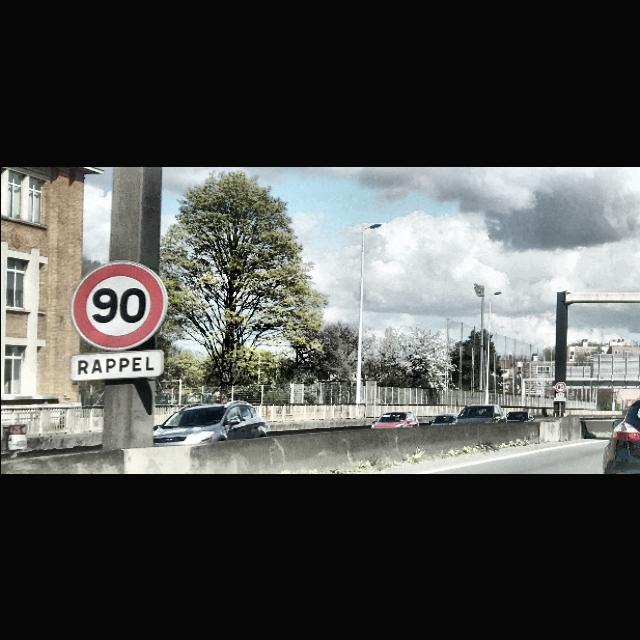speed_90: (71, 260, 167, 350)
